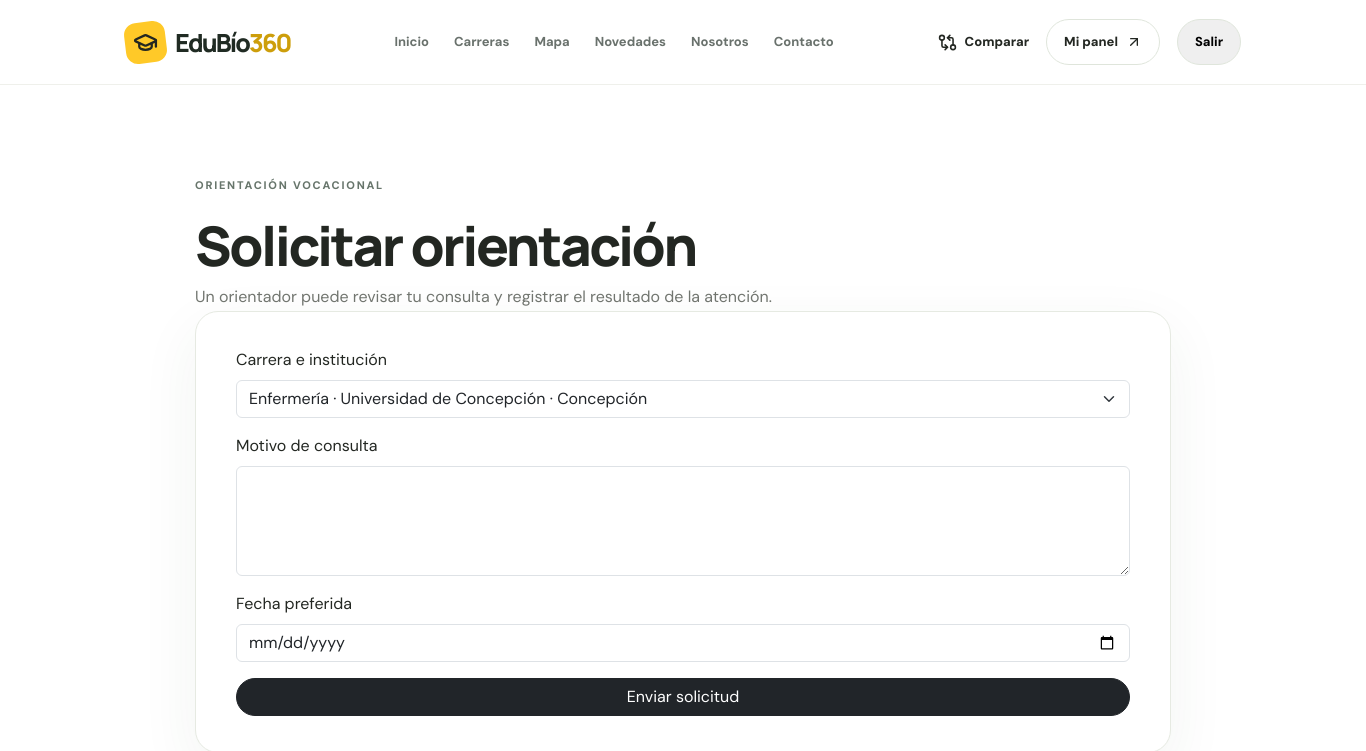
Test: Vistas migradas de EP1 › envía una consulta desde la vista de estudiante y muestra el historial
The width and height of the screenshot is (1366, 751).
Step 1. Type "Necesito conocer los requisitos" into the text box labelled "Motivo de consulta" → (683, 521), box [236,466,1130,576]
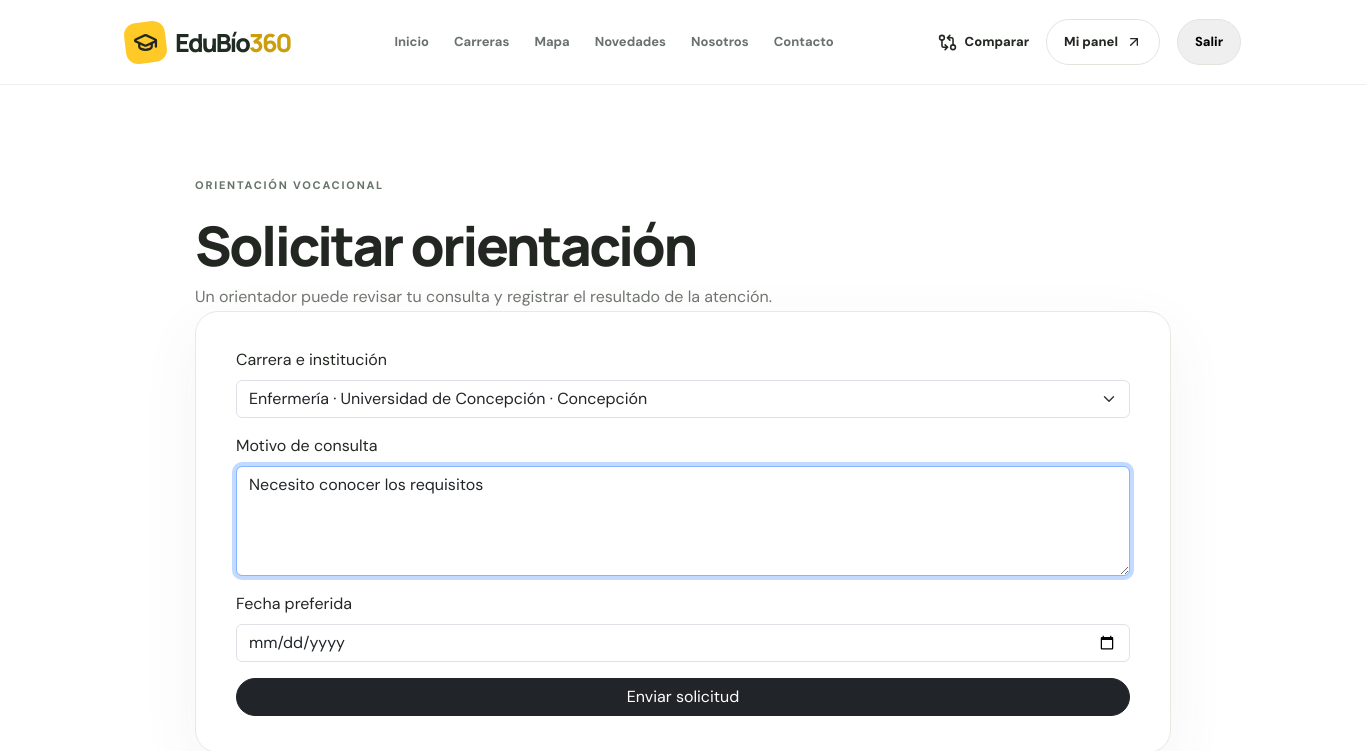
Step 2. Type "2099-12-30" into the date field labelled "Fecha preferida" → (683, 643), box [236,624,1130,662]
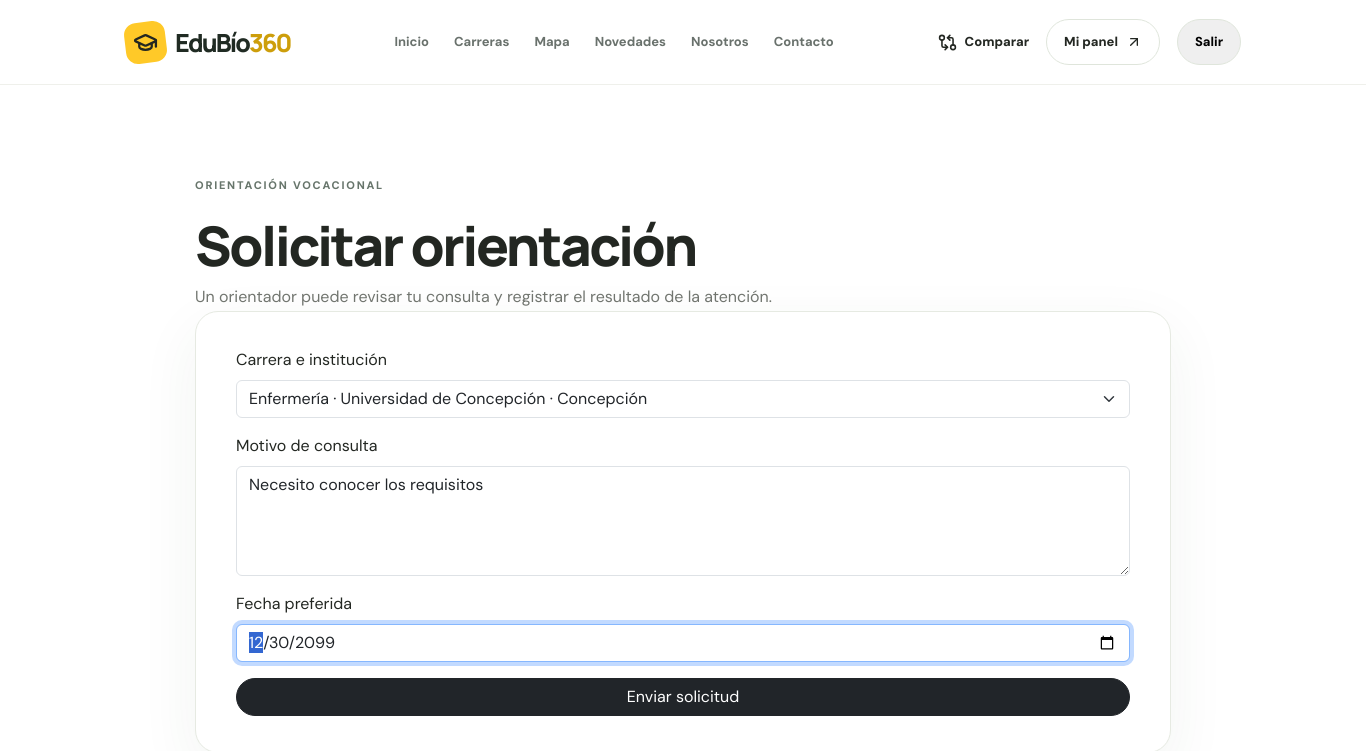
Step 3. Click the button "Enviar solicitud" → (683, 697), box [236,678,1130,716]
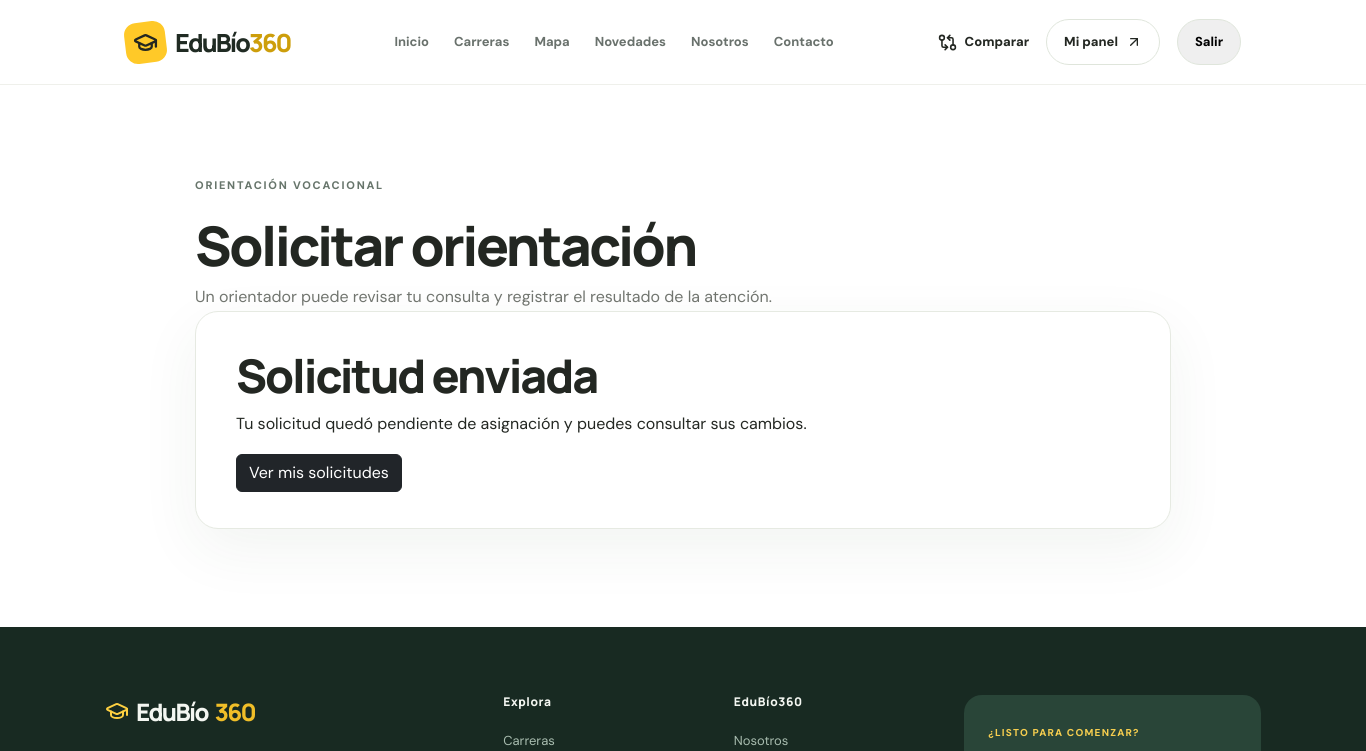
Result: the heading "Solicitud enviada" is shown at [236,343,597,407]
Step 4. Click the link "Ver mis solicitudes" → (319, 473), box [236,454,402,492]
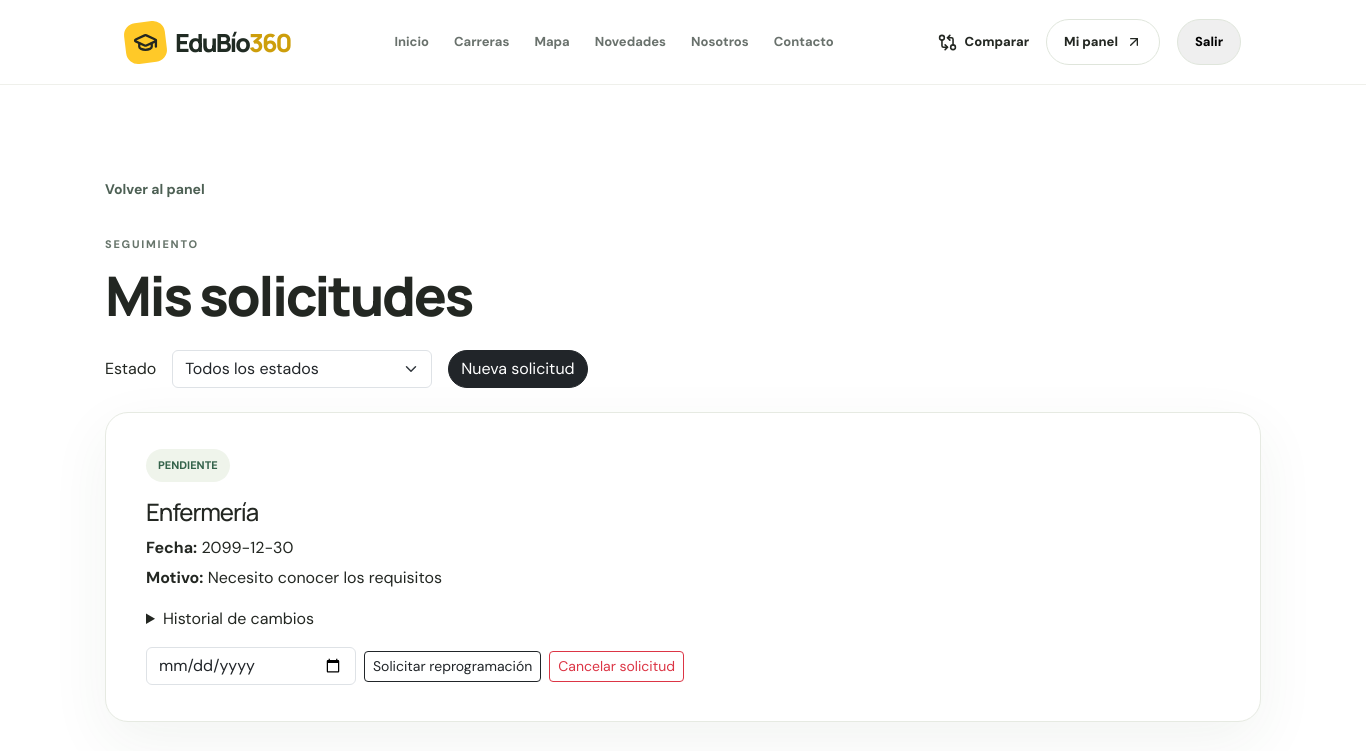
Result: the heading "Enfermería" is shown at [146,495,258,528]
Result: the text "Motivo: Necesito conocer los requisitos" is shown at [146,567,442,588]
